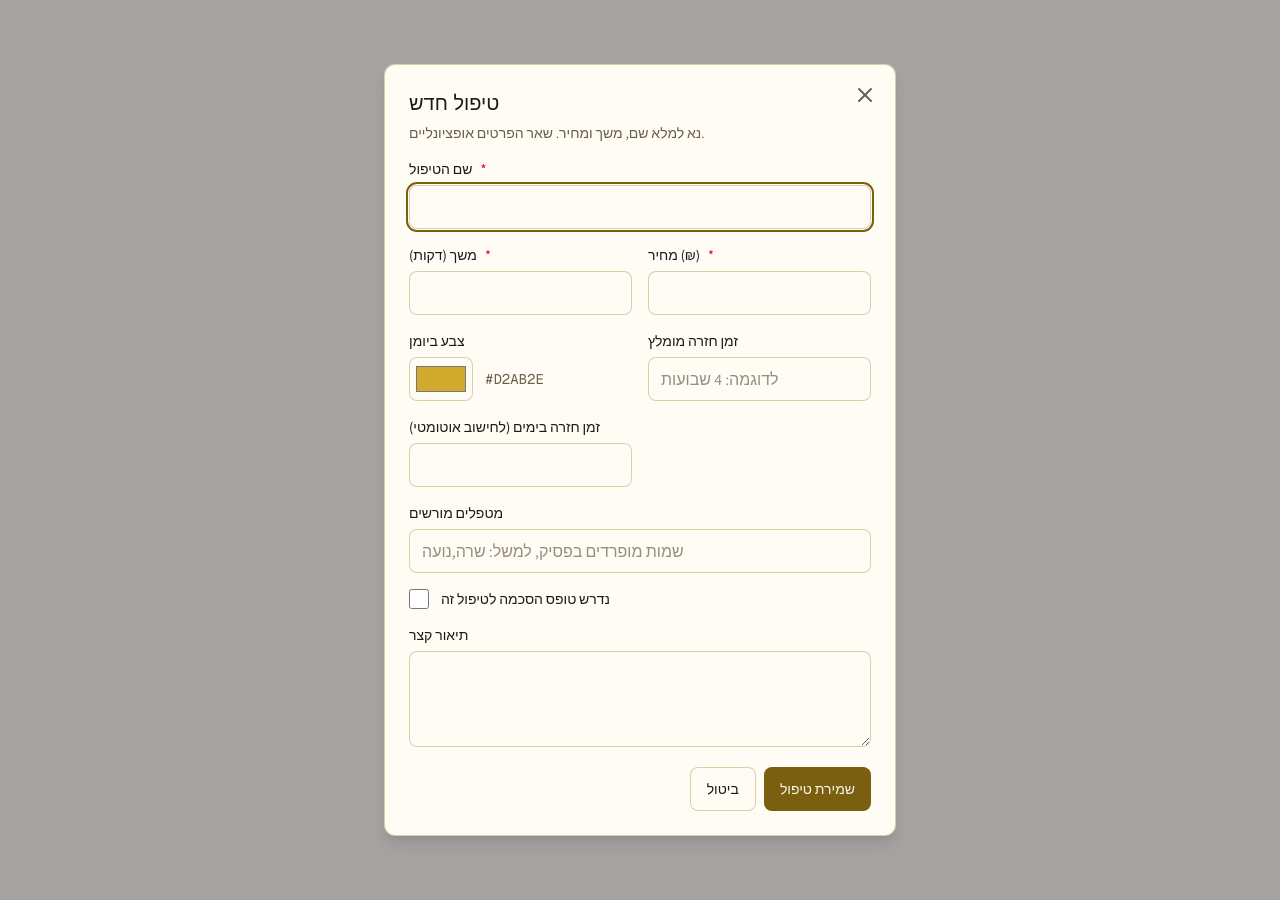
Test: TreatmentFormDialog — 409 שם כפול › מציג את הודעת השרת inline ואינו מרענן
In the field with id "nt-name": (640, 207) 409,185 -> 871,229, type "בוטוקס"
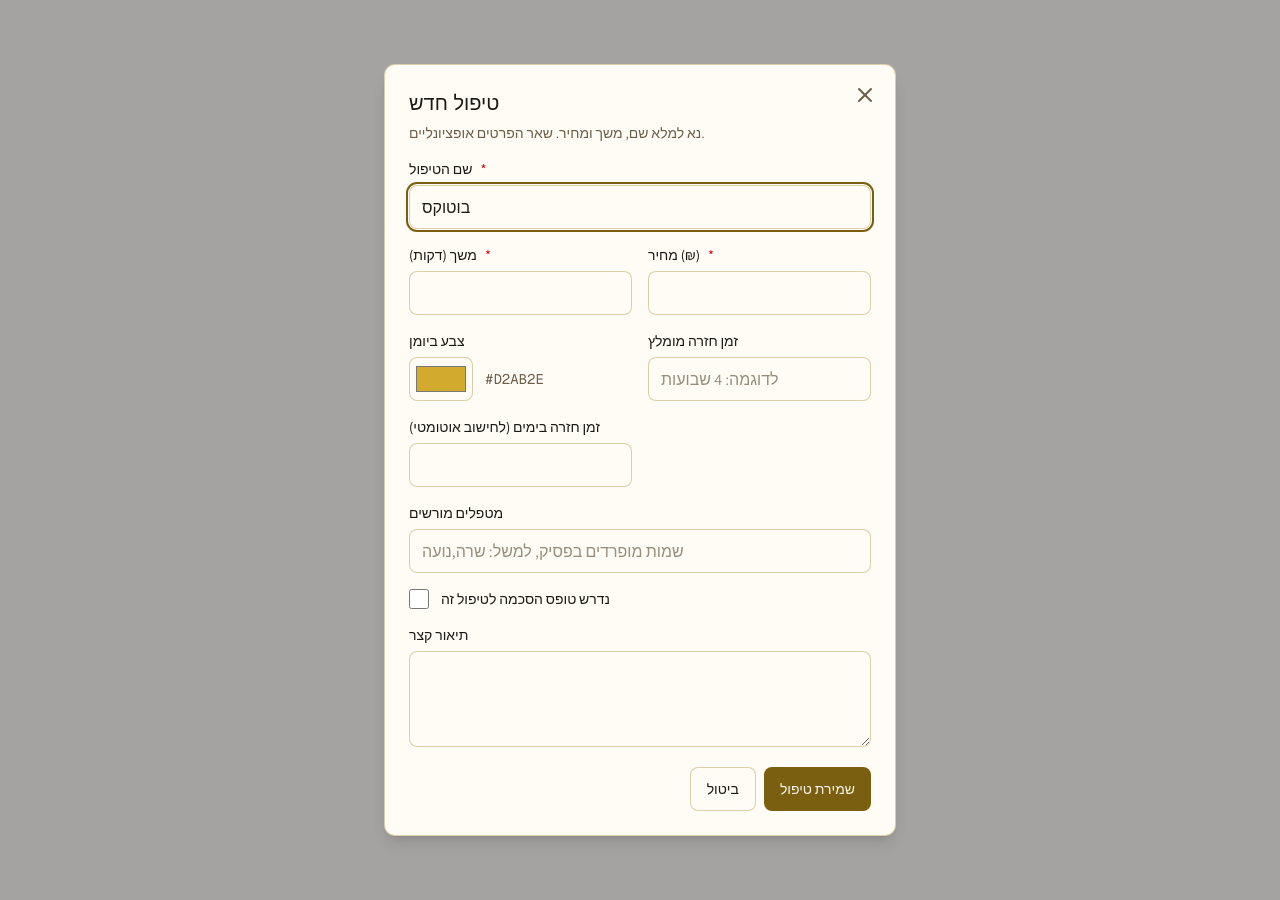
In the number field with id "nt-duration": (520, 293) 409,271 -> 632,315, type "30"
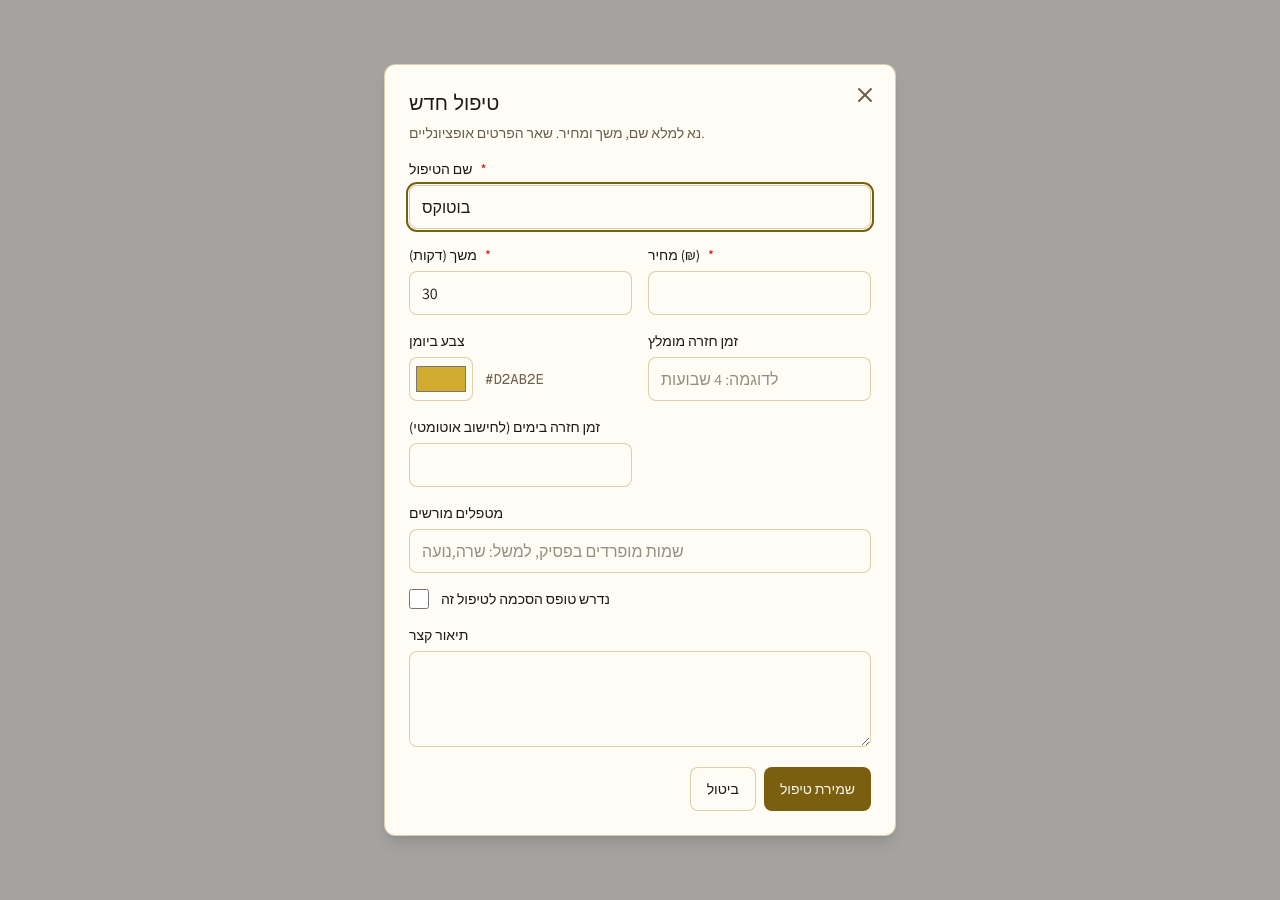
In the number field with id "nt-price": (760, 293) 648,271 -> 871,315, type "500"
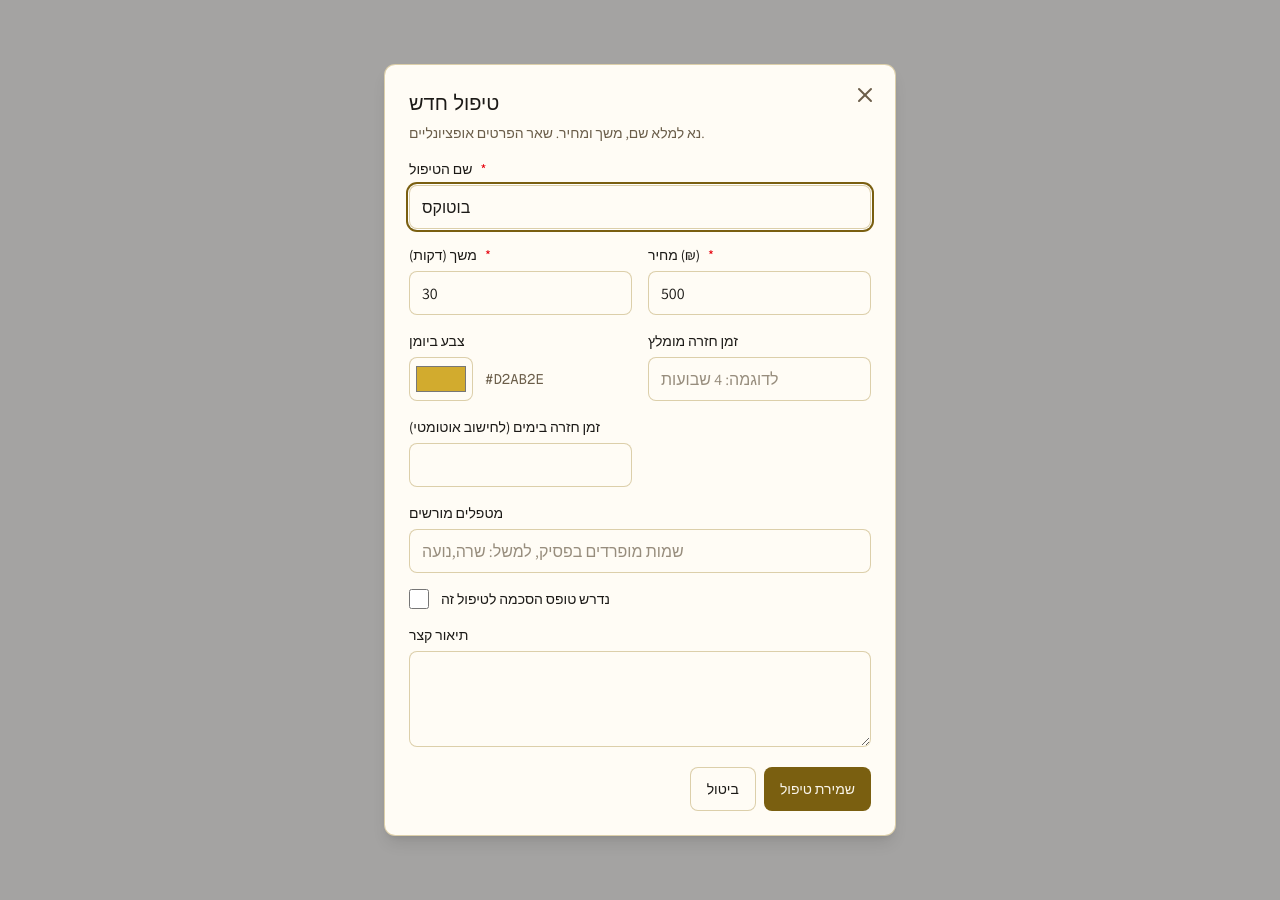
Click the button "שמירת טיפול": (817, 789) 764,767 -> 871,811
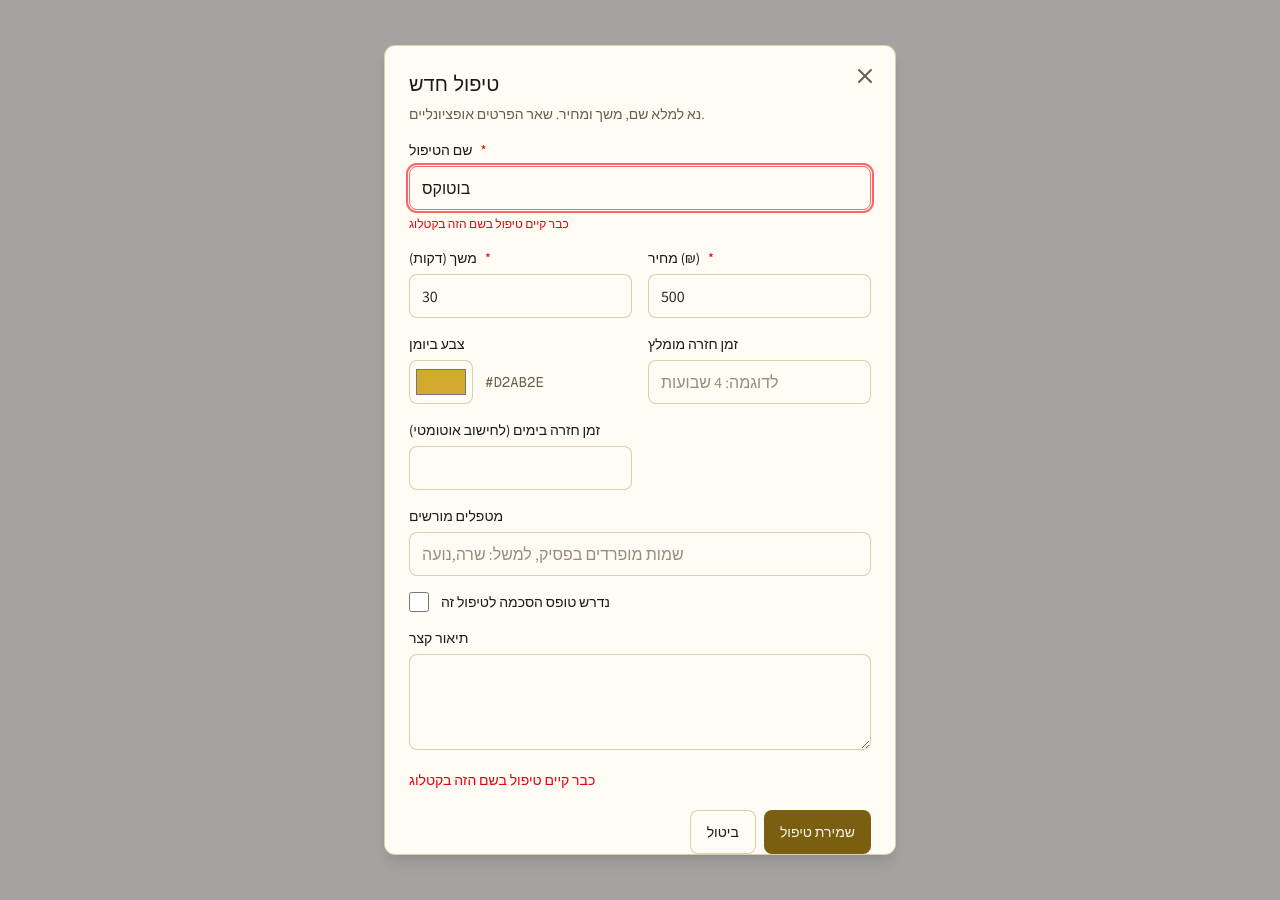
Expected: the text "כבר קיים טיפול בשם הזה בקטלוג" below "שם הטיפול" is shown, 409,216 -> 569,231
